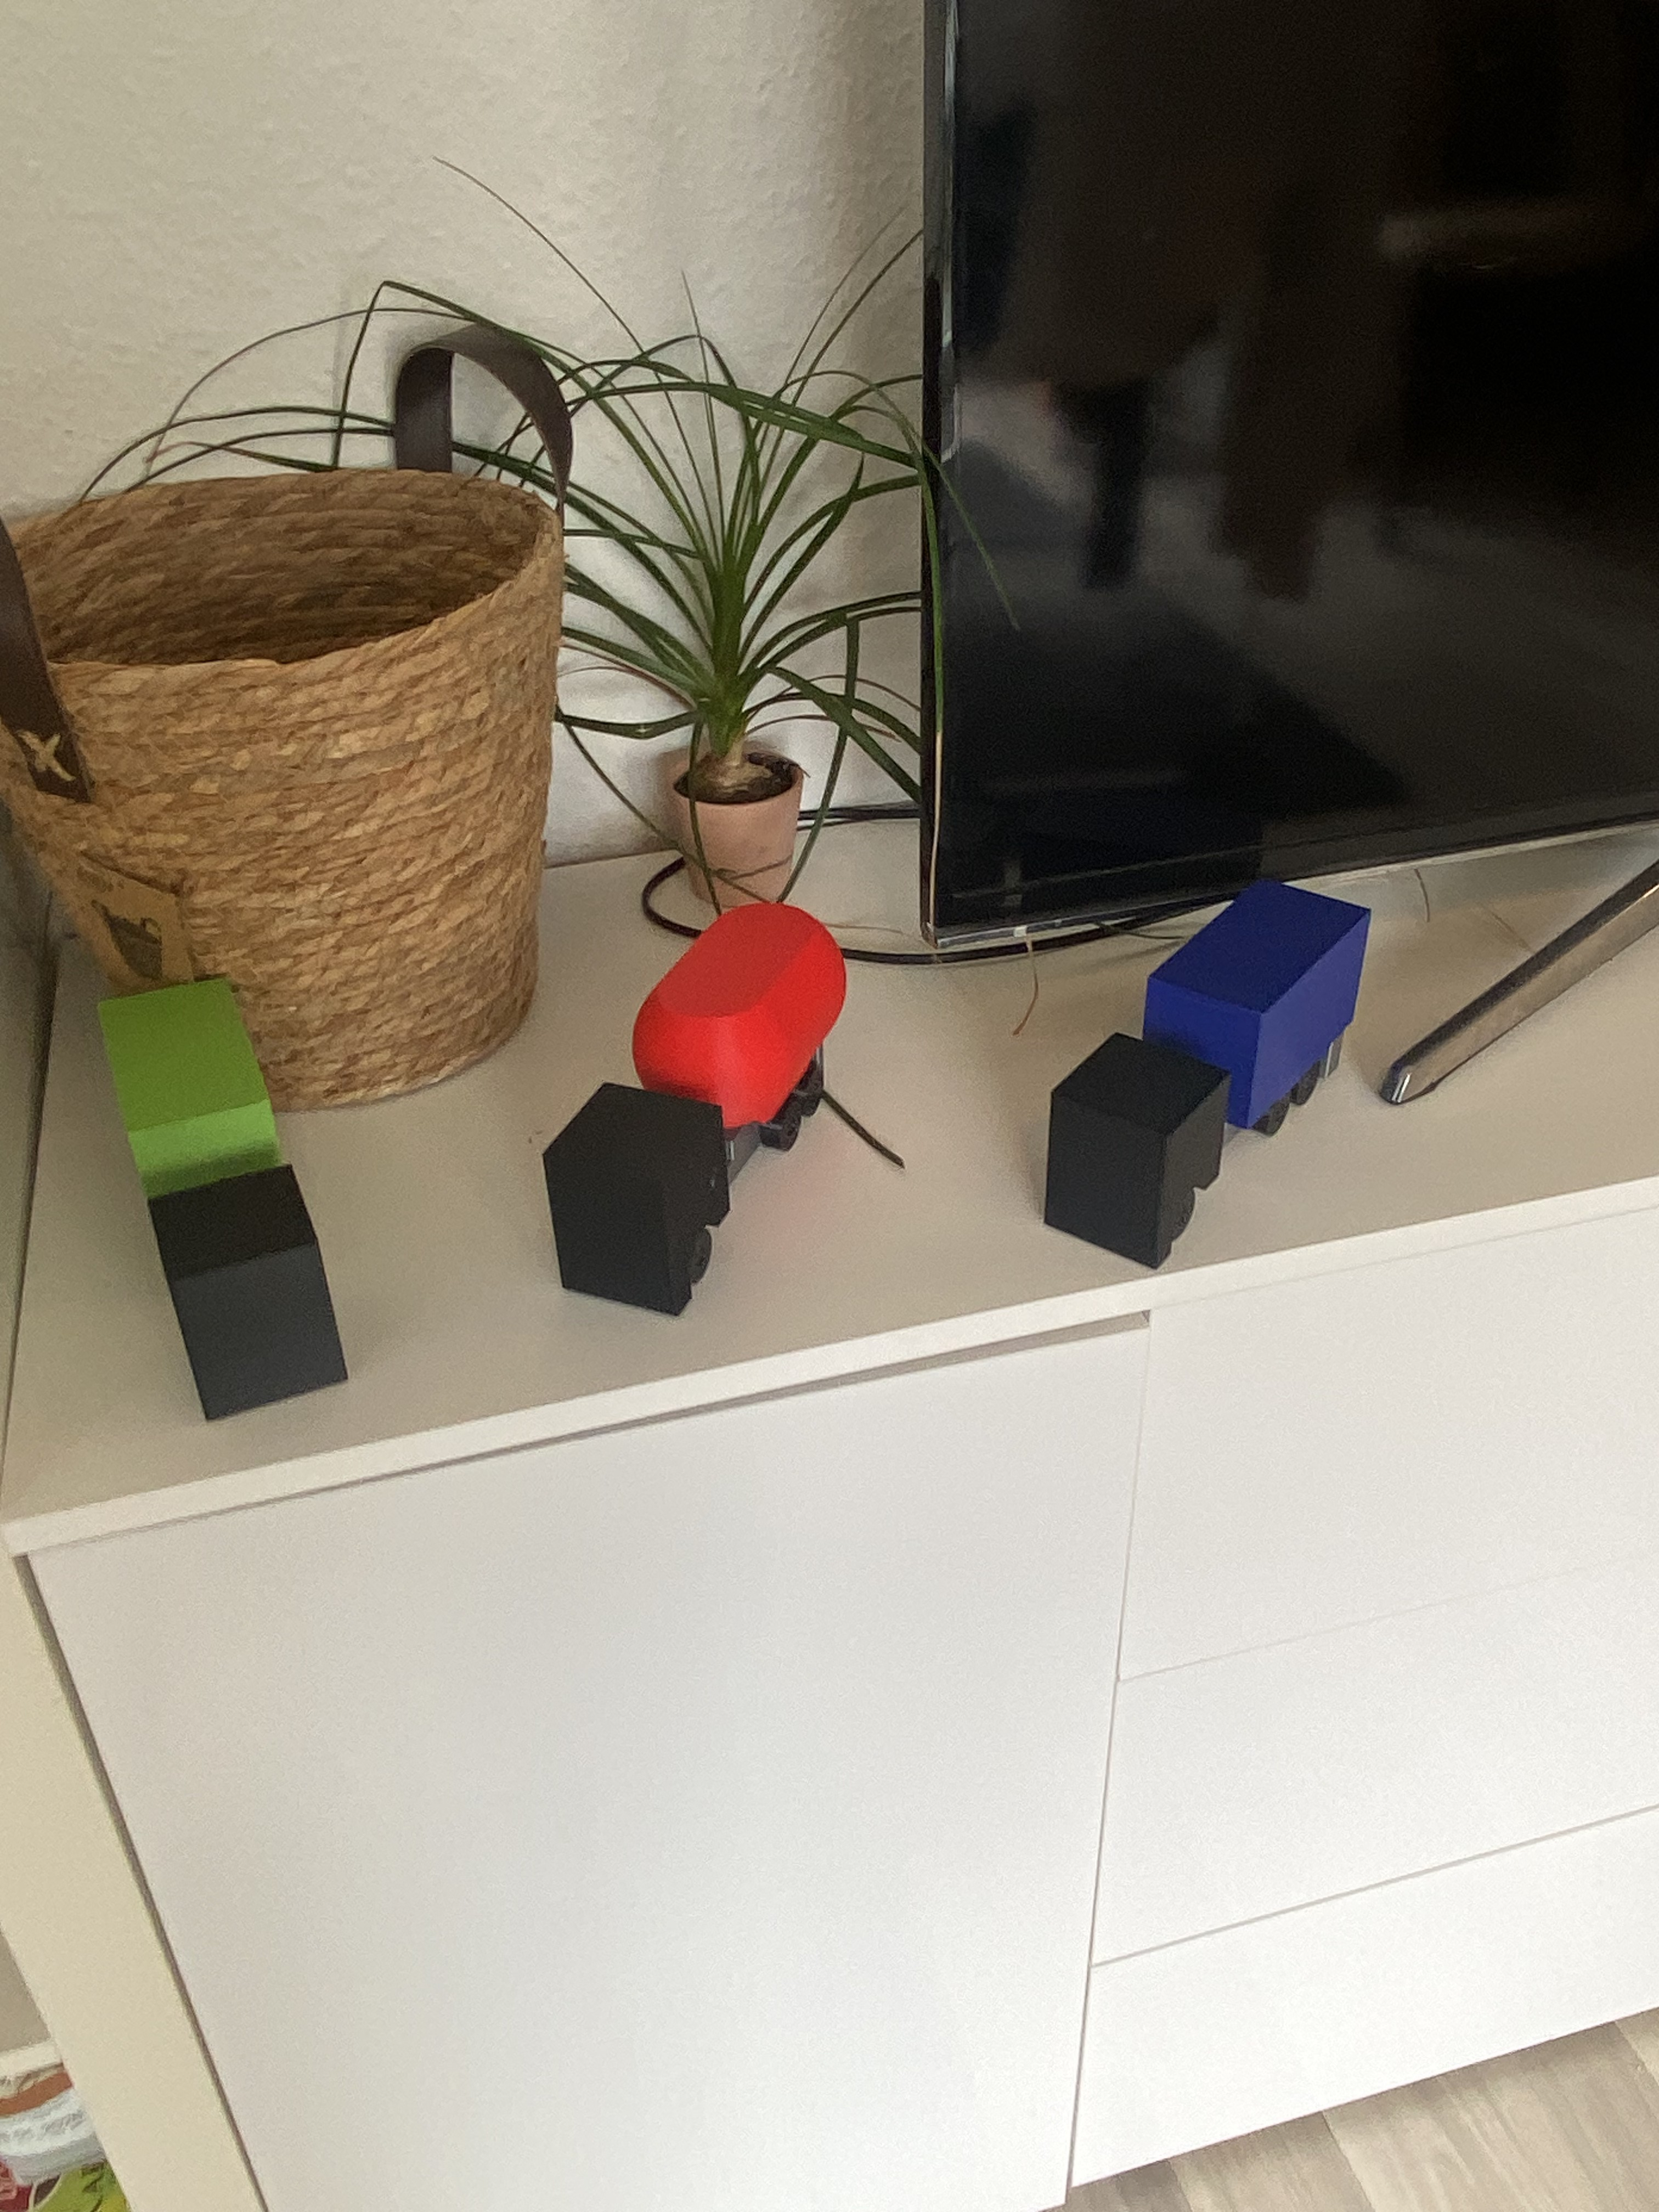blue_truck: (976, 958, 1436, 1172)
green_truck: (131, 970, 312, 1413)
red_truck: (476, 982, 955, 1202)
